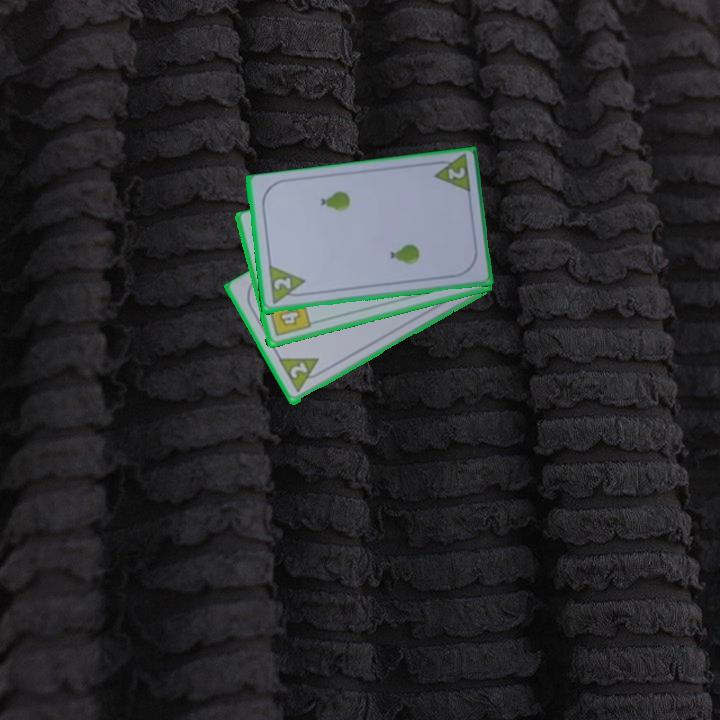2p: (428, 152, 473, 197), (286, 359, 311, 382), (270, 274, 293, 293)
4b: (265, 296, 313, 340)
